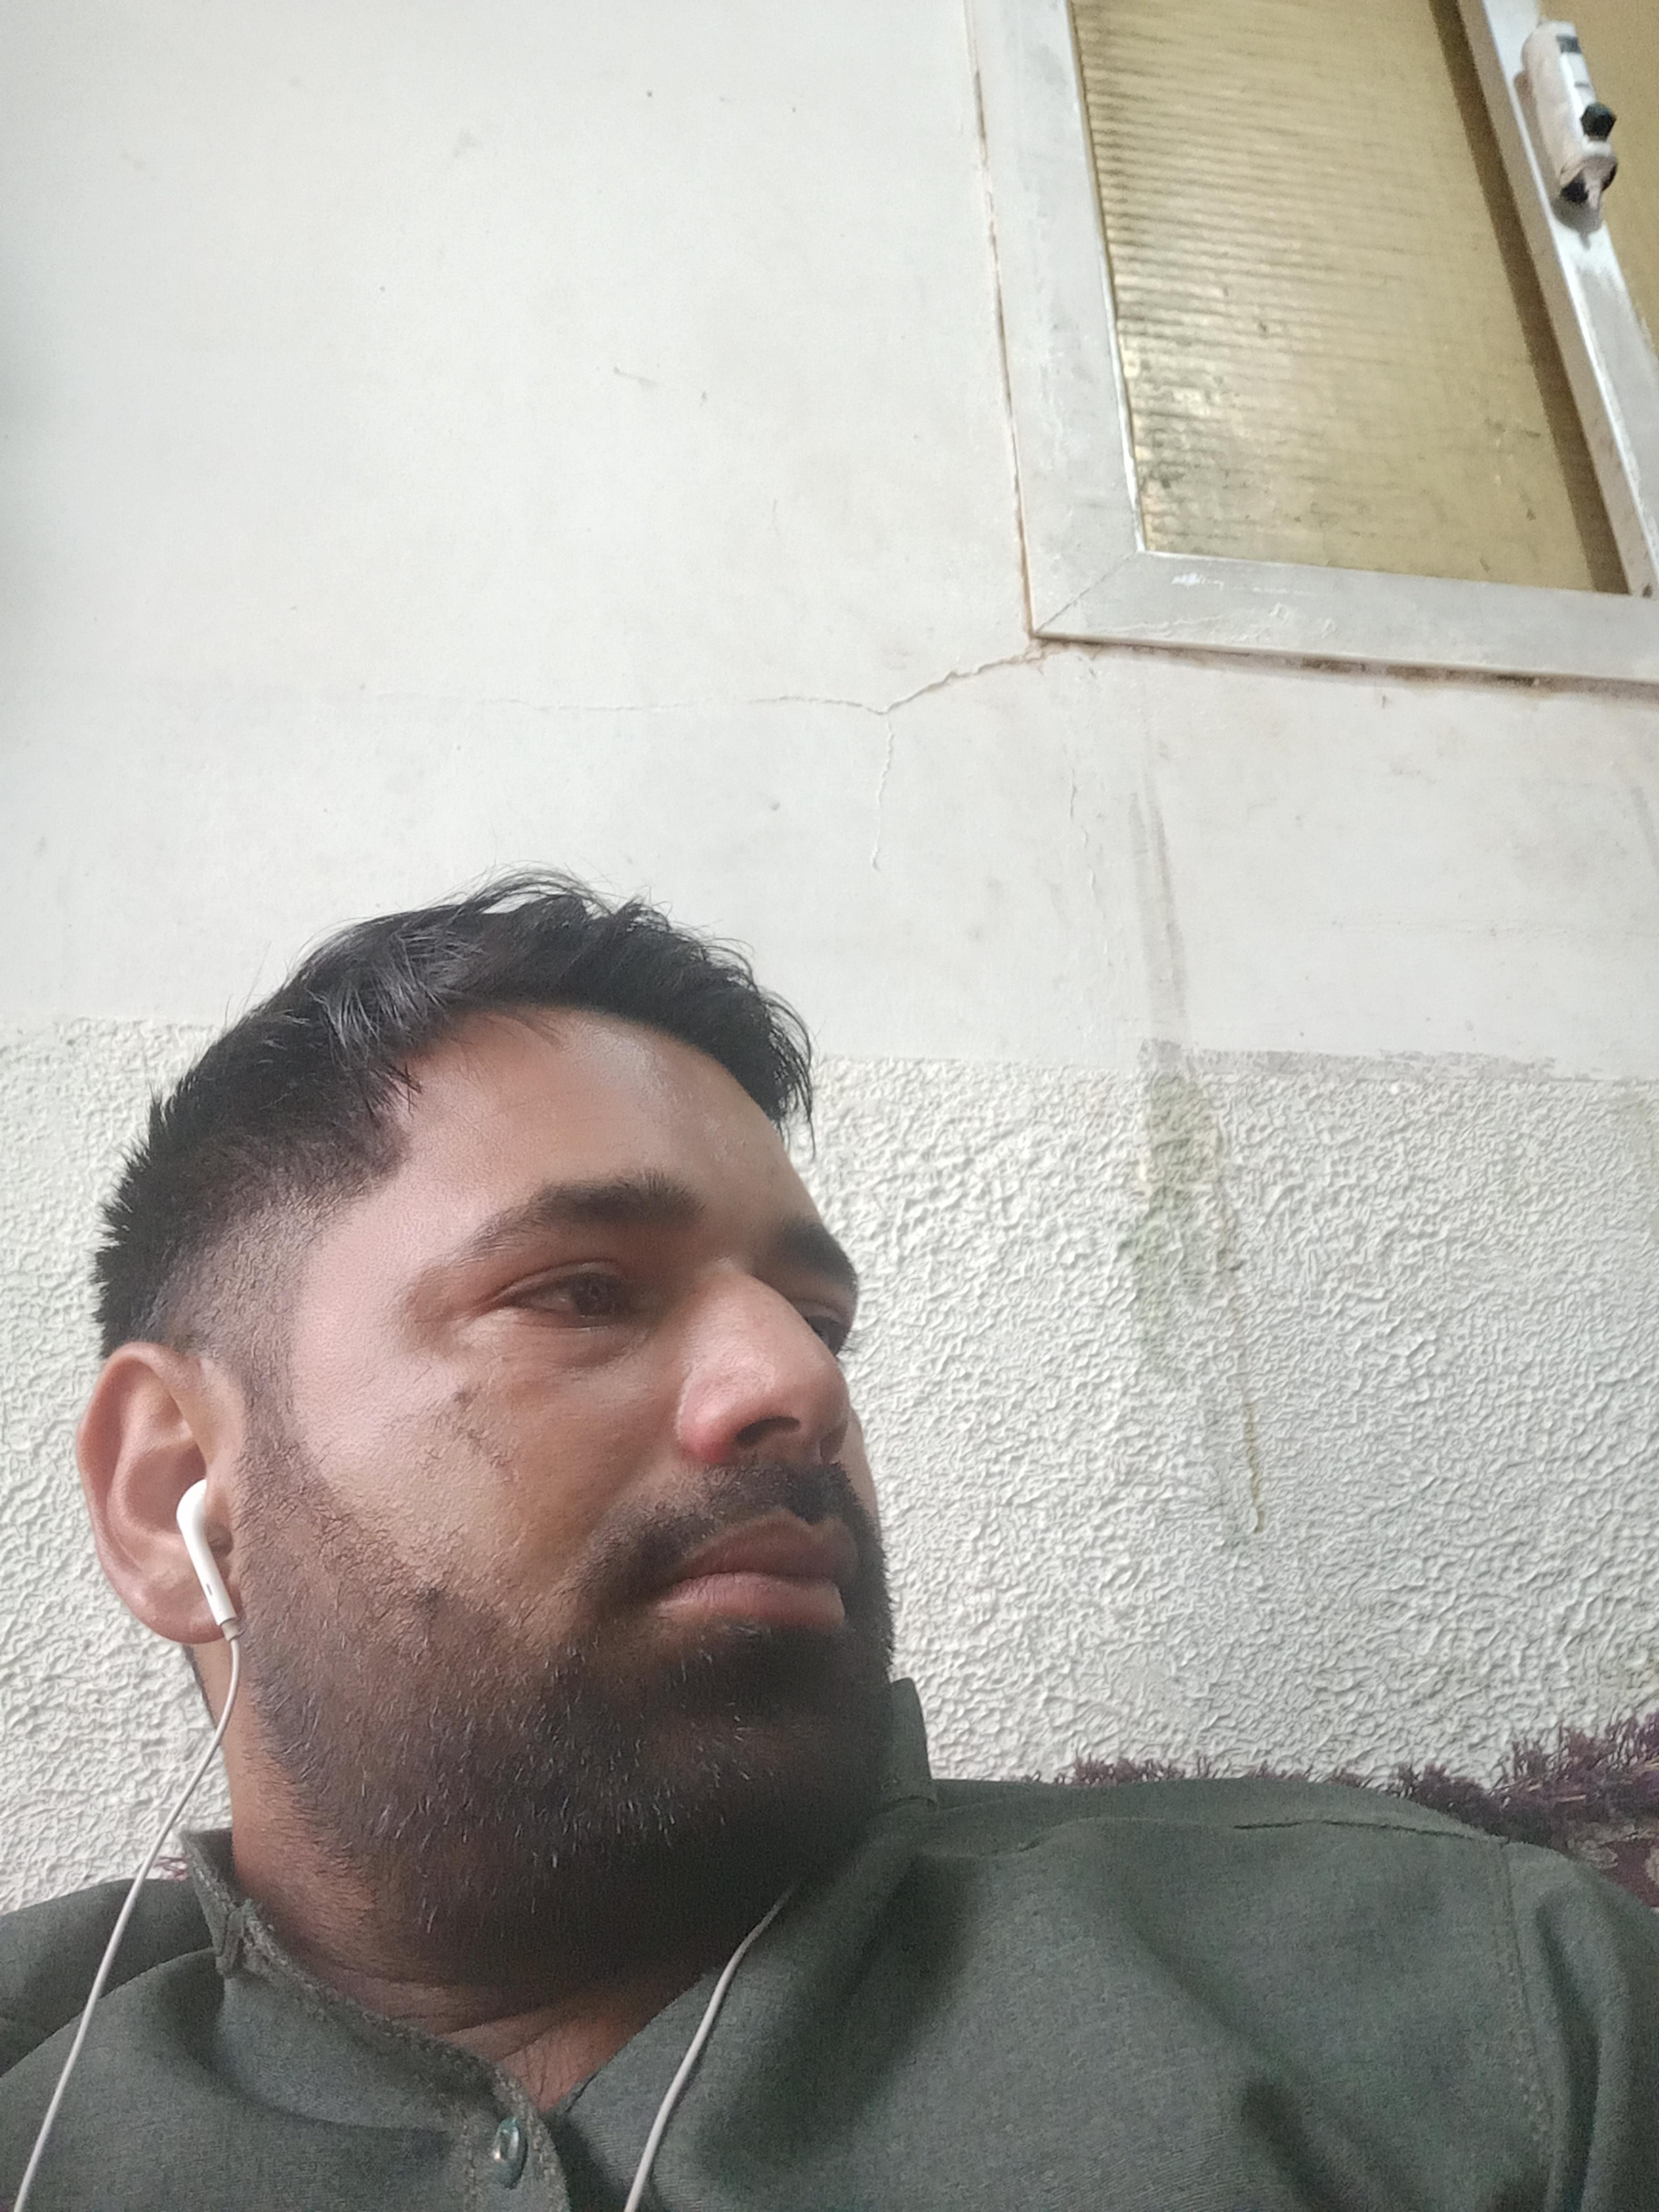Acne: (455, 1425, 519, 1484), (443, 1378, 488, 1409)
Englarged-Pores: (687, 1303, 735, 1379)
Wrinkles: (549, 1437, 652, 1587), (477, 1080, 605, 1129), (490, 1115, 638, 1155), (366, 1334, 448, 1360), (359, 1315, 469, 1331), (408, 1357, 436, 1386)
